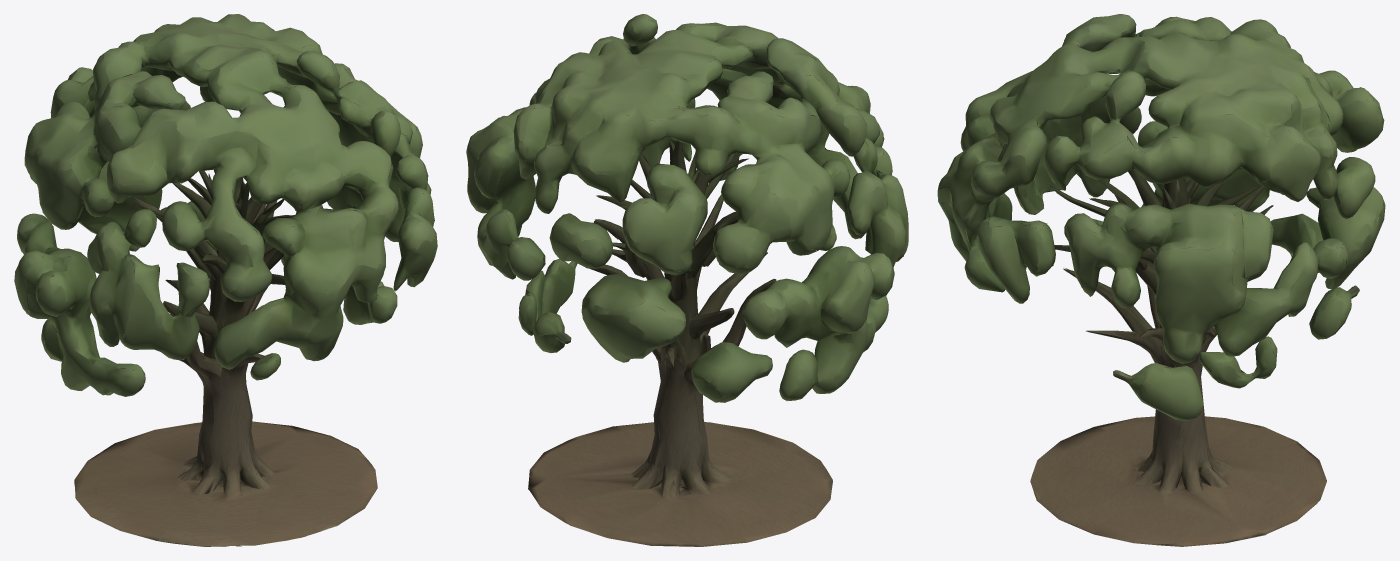
File: ShadeTree.glb
3 renders of one model, left to right at view 1: azimuth 30°, elevation 25°; view 2: azimuth 150°, elevation 25°; view 3: azimuth 270°, elevation 25°, orthographic.
Parts seen in each view (by area): view 1: node_0; view 2: node_0; view 3: node_0.
Boxes of the visible parts, box(x1,y1,x2,y2) form: node_0: box(14, 14, 437, 546); node_0: box(466, 14, 908, 546); node_0: box(937, 14, 1385, 546).
Bounding box in the file's own units: 0.9215 × 0.988 × 0.9084.
Materials: 1 (1 with a texture image).
